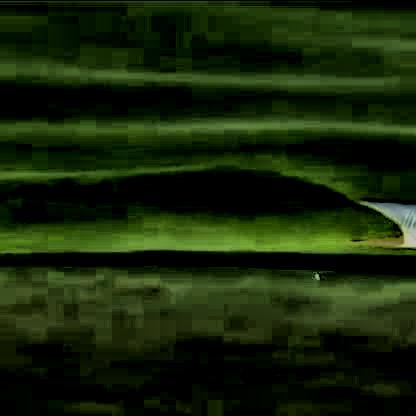golfball: (310, 269, 317, 279)
